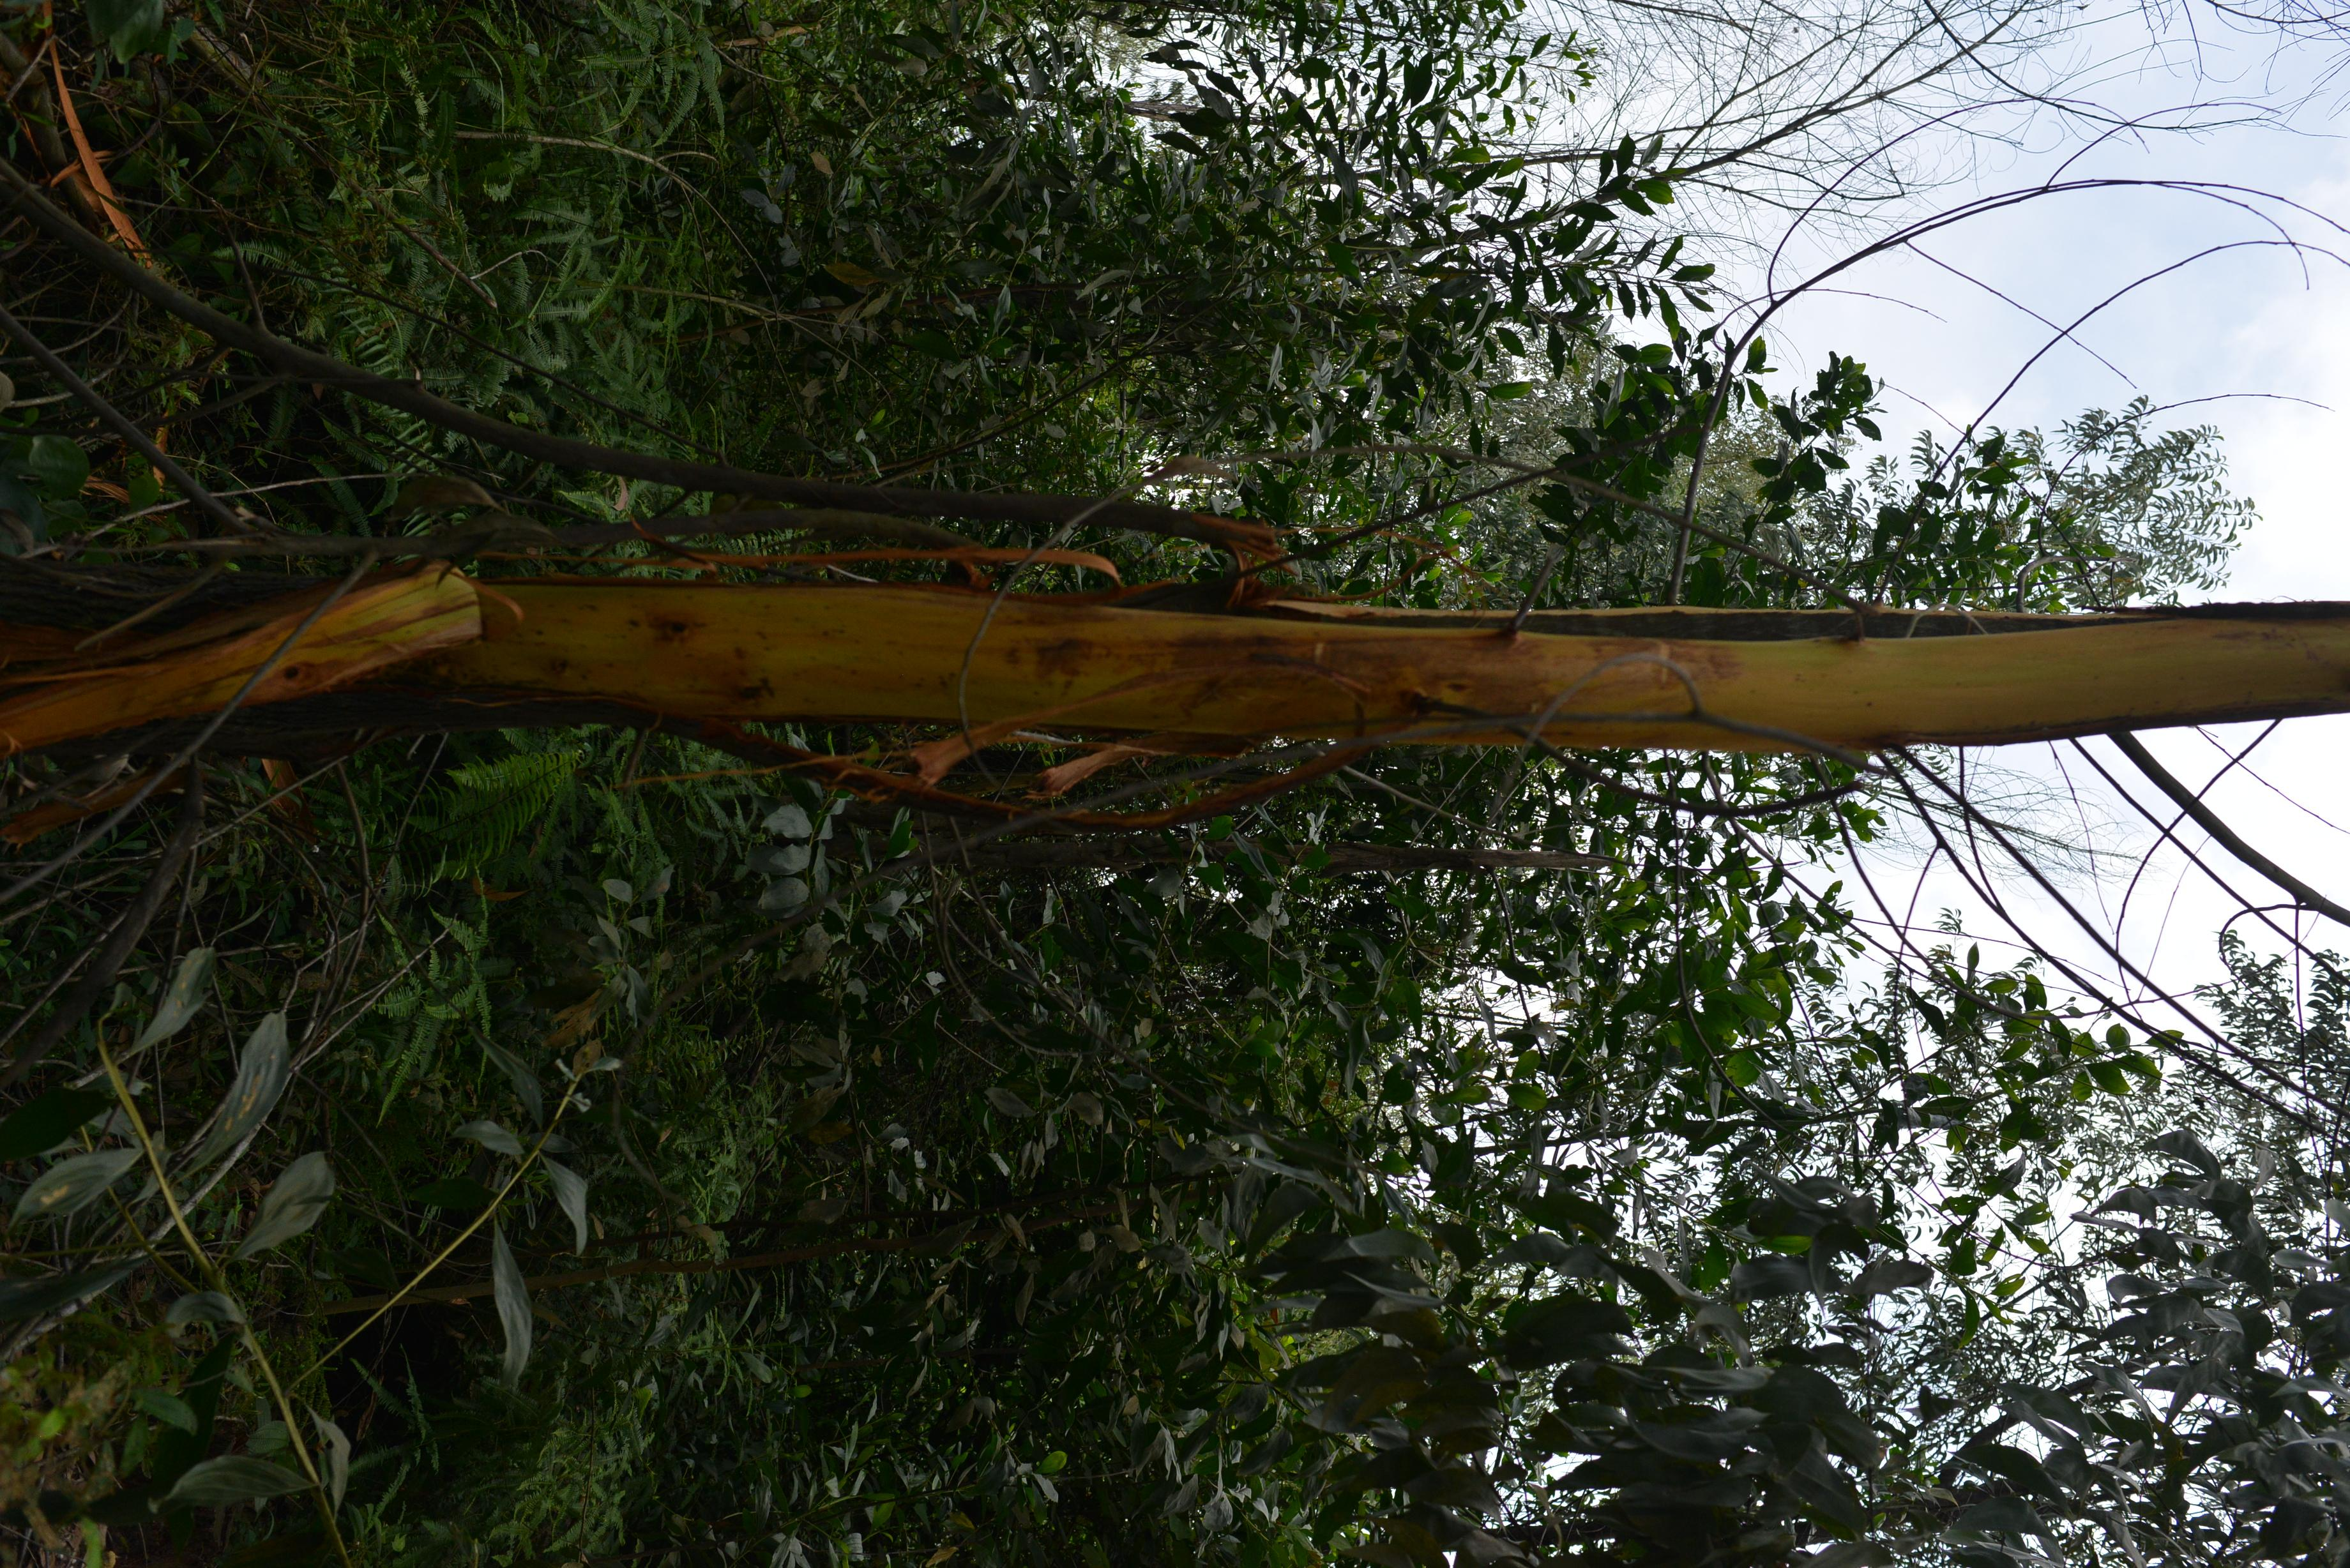Mammals Attack: (474, 597, 2350, 747)
